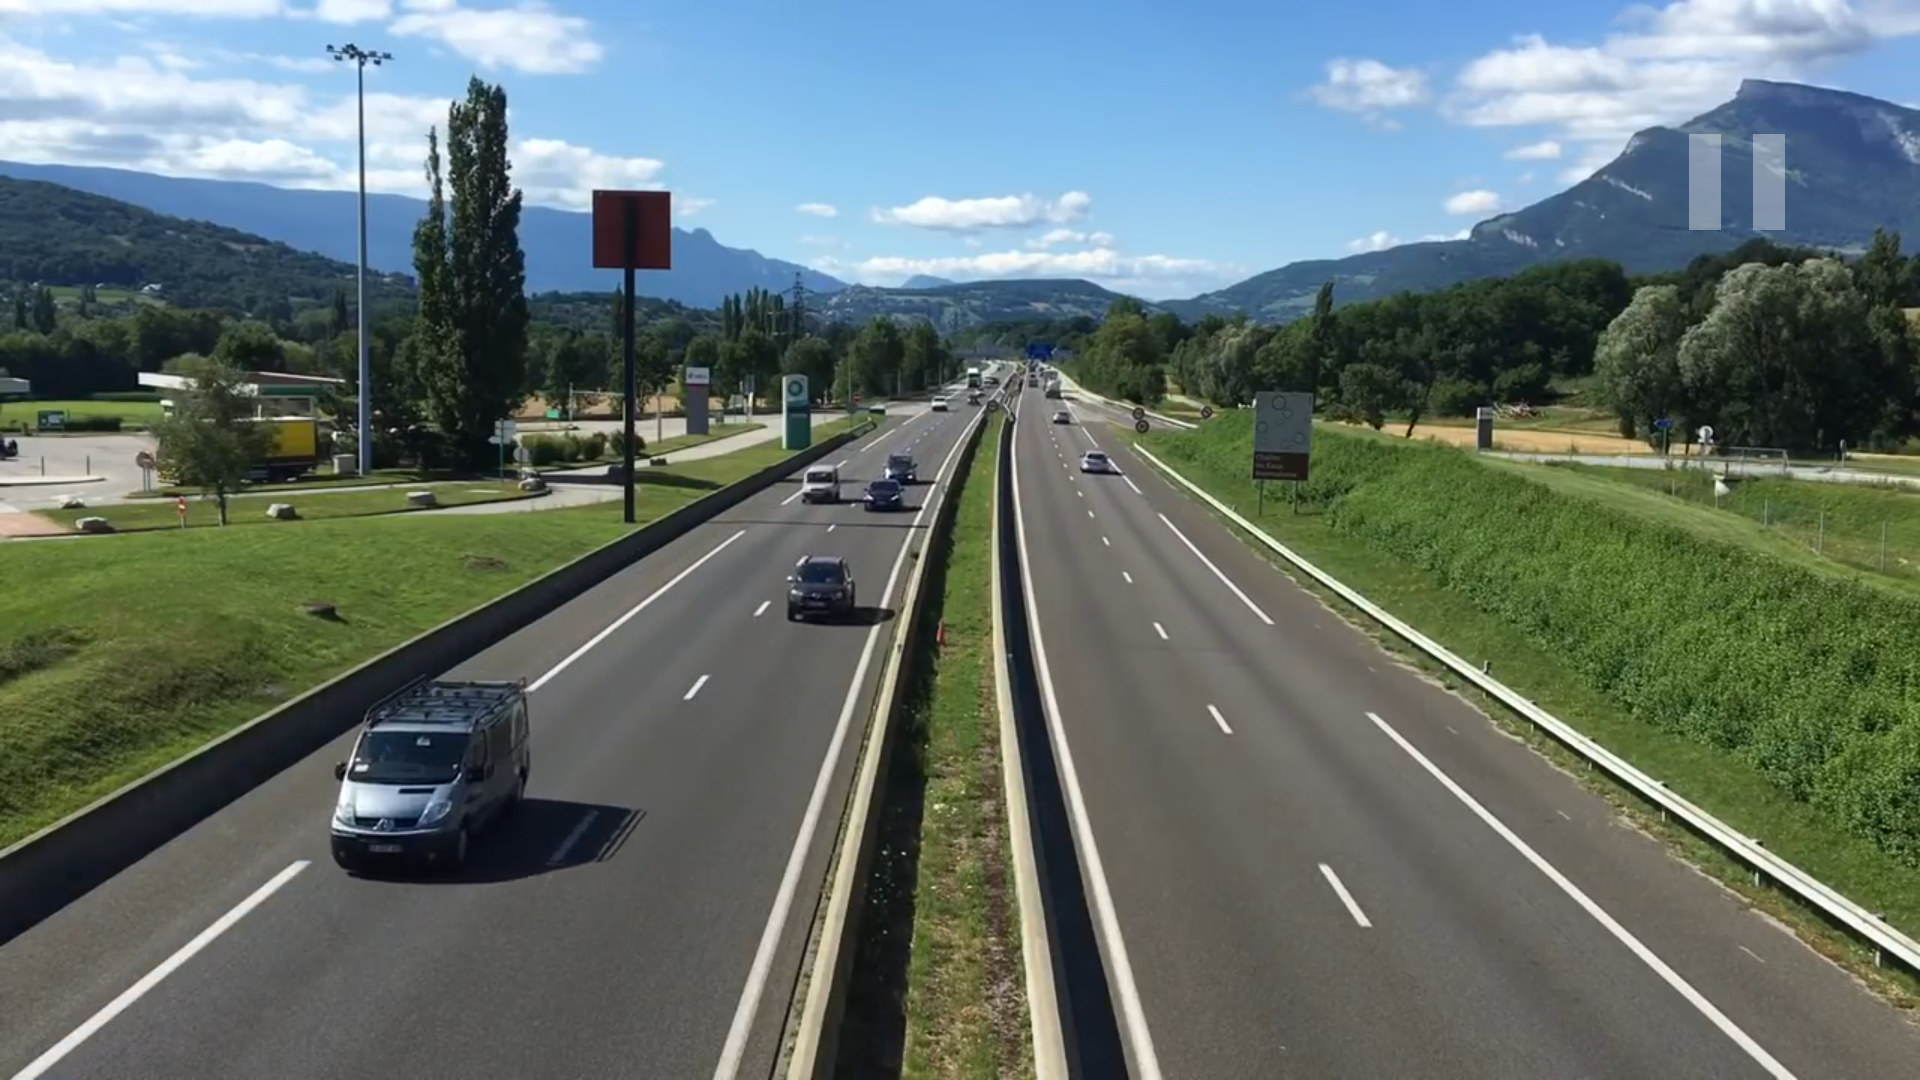LightVehicle: (342, 673, 535, 876), (786, 555, 856, 628), (795, 462, 844, 512), (861, 479, 910, 516)
